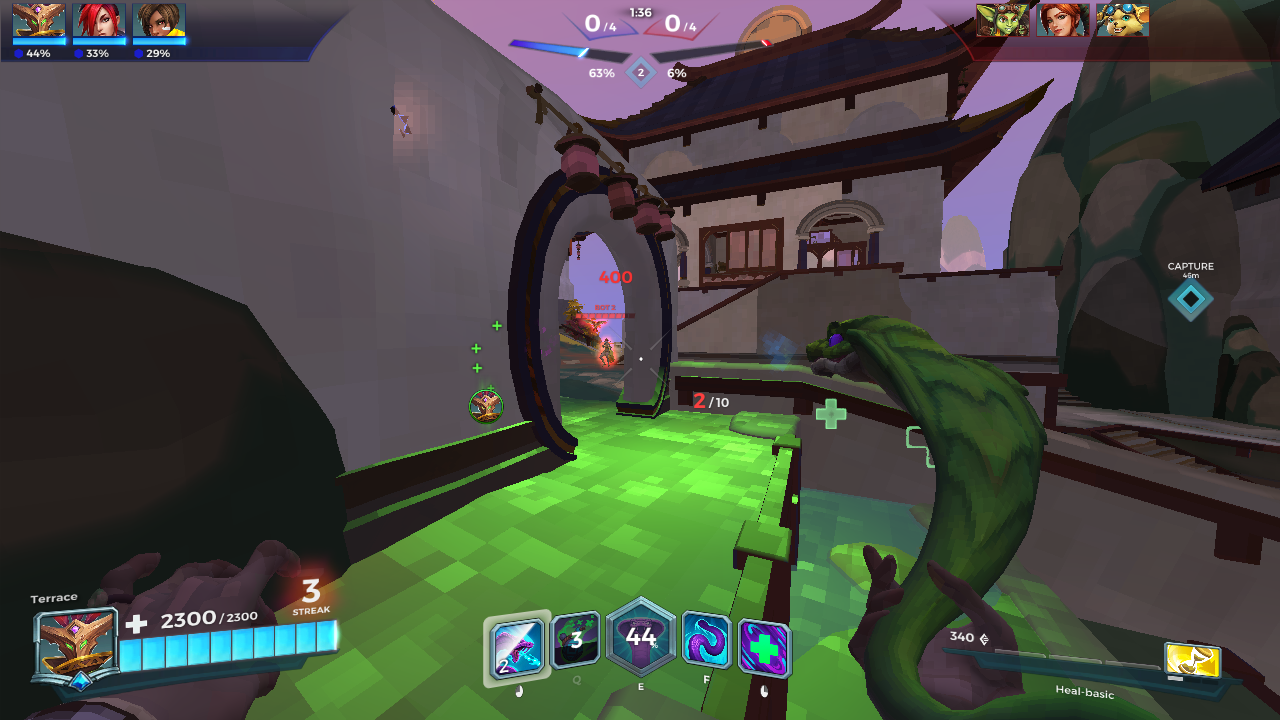model: (595, 327, 617, 374)
